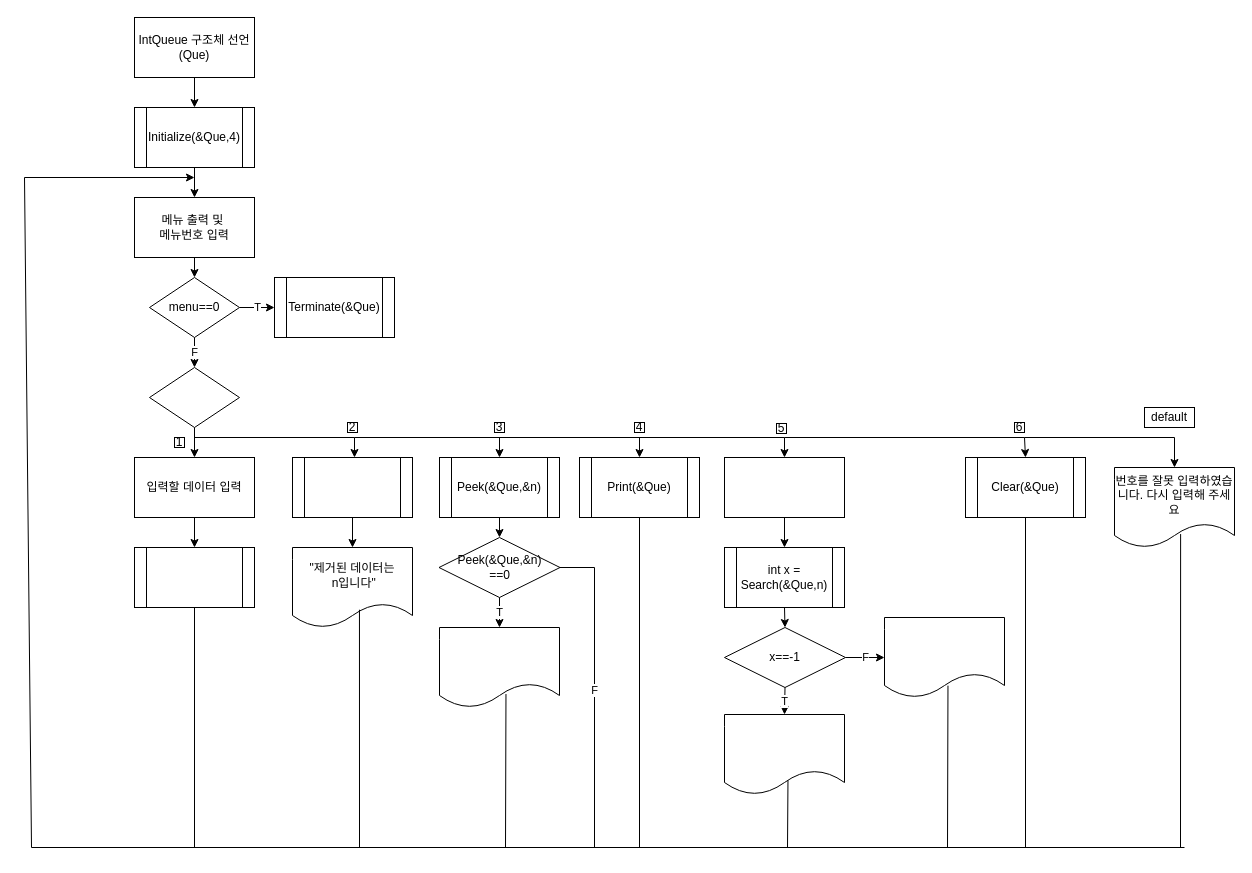
Some shapes in this 1252 by 873 pixel diagram are drawn without their labels. The shapes that lost their labels are listed below. From the top down, each one's centre as x and y in pixels, then its label:
point 194,397: menu
point 352,487: Deque(&Que,&n)
point 784,487: 검색할 데이터 입력
point 194,577: Enque(&Que,n)
point 499,667: "맨 앞 데이터는 n입니다"
point 944,657: 해당 데이터는 Que[x]에 있습니다
point 784,754: 해당 데이터는 없습니다
